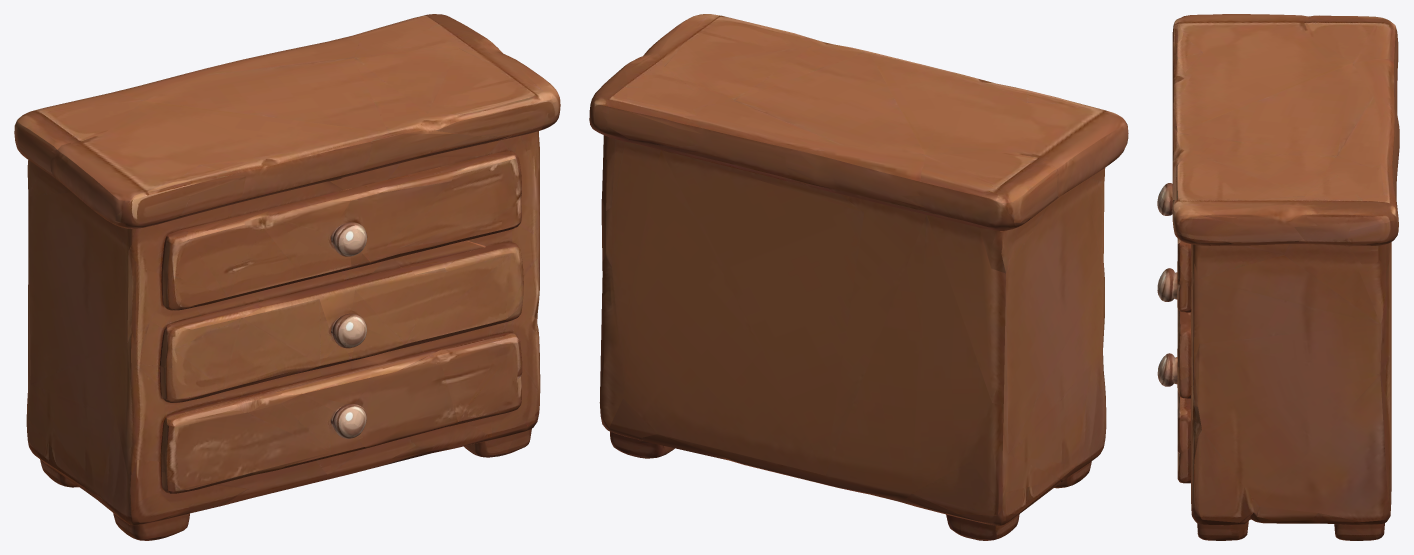
Rendered from drawer.glb.
3 views of the same model, side by side, from view 1: azimuth 30°, elevation 25°; view 2: azimuth 150°, elevation 25°; view 3: azimuth 270°, elevation 25° (orthographic). The views are drawn at different scales.
Size of the model in its own units: 1.9 by 1.49 by 0.9584.
1 material, 1 textured.
